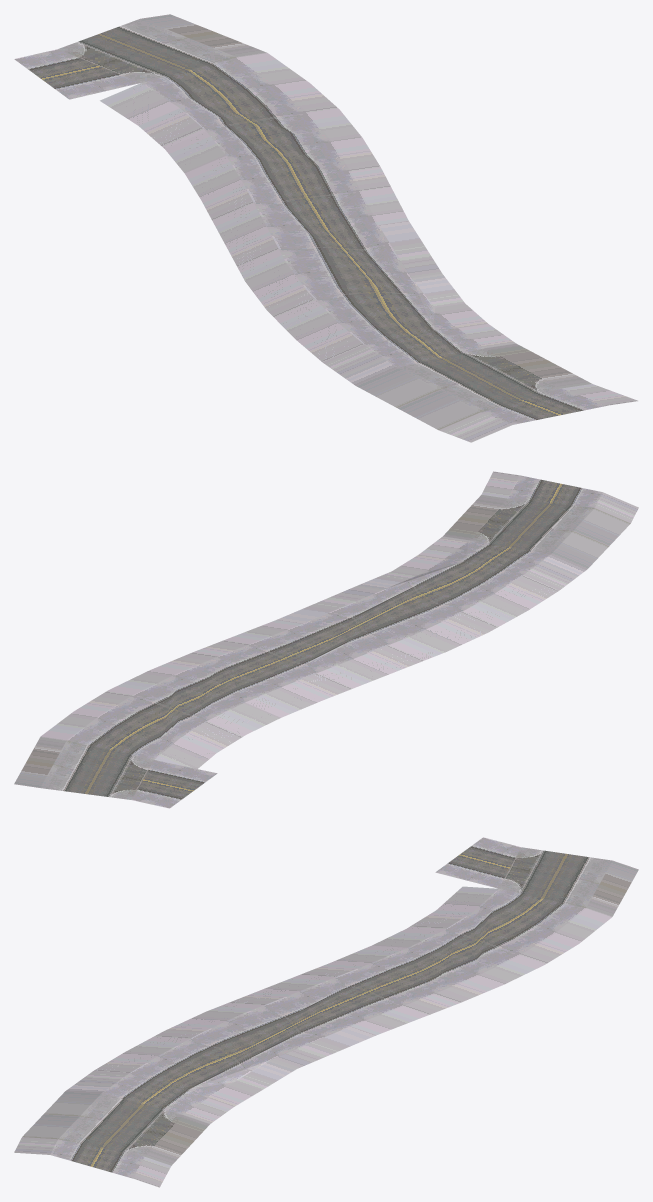
The model's file is lodassroad1072.obj.
The picture shows the model from 3 angles, top to bottom: view 1: azimuth 30°, elevation 25°; view 2: azimuth 150°, elevation 25°; view 3: azimuth 330°, elevation 25°; orthographic projection. The views are drawn at different scales.
Visible parts, largest first — view 1: lodasSroad1072; view 2: lodasSroad1072; view 3: lodasSroad1072.
Part boxes in pixels (x1,y1,x2,y2): lodasSroad1072: (14,14,637,442); lodasSroad1072: (14,471,638,808); lodasSroad1072: (14,837,638,1187).
Bounding box in the file's own units: 56.94 × 2.01 × 184.
2 materials, 2 textured.
